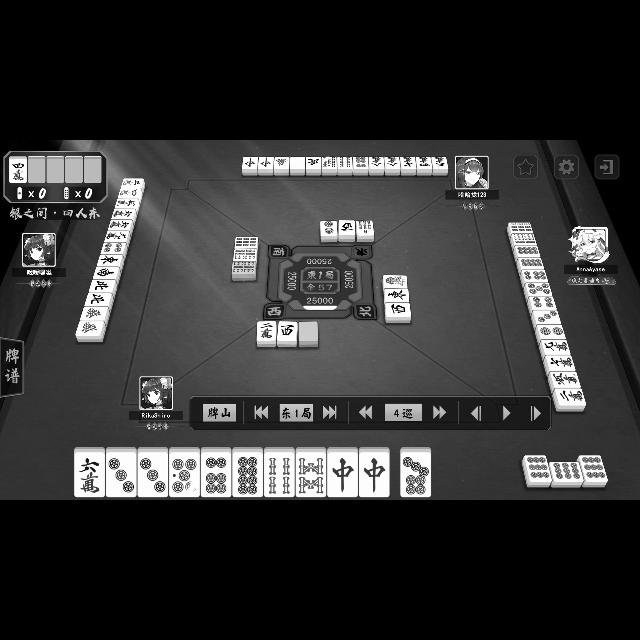1s: (382, 276, 408, 288)
2m: (552, 388, 586, 412), (257, 322, 277, 346)
2p: (534, 325, 566, 339), (320, 222, 338, 242)
3m: (432, 157, 448, 176), (121, 178, 145, 188)
3p: (107, 447, 137, 498), (138, 447, 168, 497), (531, 310, 561, 324)
4m: (10, 157, 26, 183), (416, 157, 432, 175), (118, 188, 142, 198)
4p: (527, 296, 557, 310), (101, 242, 127, 254)
4s: (264, 447, 296, 497), (338, 157, 352, 176)
5m: (548, 372, 580, 388), (115, 198, 139, 208)
5p: (170, 447, 200, 497), (524, 282, 552, 296)
5s: (322, 157, 336, 176)
6m: (74, 448, 106, 498), (108, 220, 134, 230), (111, 209, 137, 219)
6p: (200, 447, 232, 497), (520, 270, 548, 282), (354, 157, 368, 175)
6s: (232, 262, 256, 280), (509, 233, 536, 244), (233, 249, 257, 261)
7m: (543, 356, 575, 370), (400, 157, 416, 175)
7p: (401, 447, 432, 497)
7s: (356, 220, 374, 242)
8m: (384, 157, 400, 175), (370, 157, 384, 176)
8p: (233, 447, 263, 497), (516, 258, 544, 270), (513, 246, 541, 256)
8s: (297, 447, 327, 497)
9m: (539, 340, 571, 354), (104, 232, 130, 242)
9p: (522, 455, 552, 487), (580, 456, 608, 486), (550, 462, 582, 488)
9s: (507, 223, 533, 233), (235, 238, 258, 248)
chun: (358, 447, 389, 497), (328, 447, 358, 497), (242, 157, 258, 176), (258, 157, 274, 175)
haku: (298, 321, 318, 347), (290, 157, 306, 175)
hatsu: (76, 321, 106, 341), (80, 307, 110, 321), (274, 157, 290, 175)
nan: (93, 267, 121, 279)
pe: (85, 294, 114, 306), (89, 280, 118, 292), (306, 157, 320, 175)
sha: (277, 321, 297, 347), (385, 303, 411, 323), (338, 220, 356, 242)
tou: (384, 289, 410, 303), (98, 254, 124, 266)
